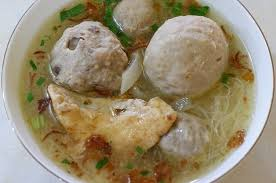bakso: (36, 9, 236, 170)
